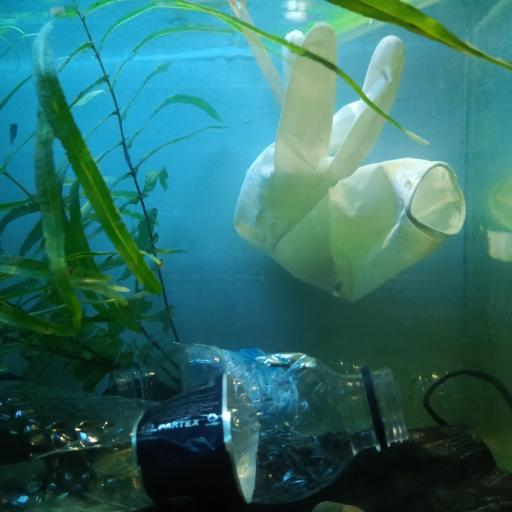glove: (234, 27, 468, 304)
mask: (322, 363, 512, 512)
plastic_bottle: (0, 353, 413, 512), (107, 342, 332, 413)
plastic_straw: (225, 0, 284, 104)
